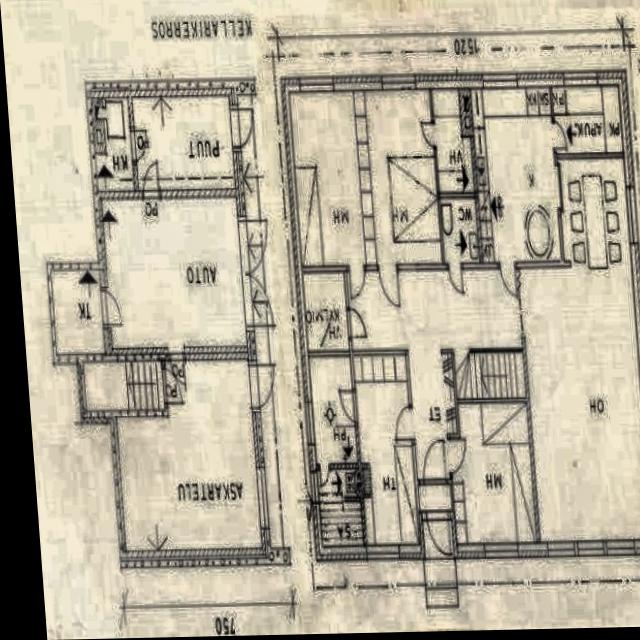room: (113, 356, 262, 558), (289, 82, 442, 273), (102, 189, 247, 355), (471, 84, 565, 266), (446, 399, 537, 549), (353, 350, 420, 548), (132, 95, 236, 191), (309, 354, 358, 466), (552, 83, 623, 156), (51, 268, 105, 357), (431, 87, 475, 195), (432, 87, 475, 195), (92, 97, 134, 193), (84, 362, 165, 411), (303, 270, 349, 354), (317, 467, 364, 548), (440, 196, 480, 265), (418, 484, 453, 513)
